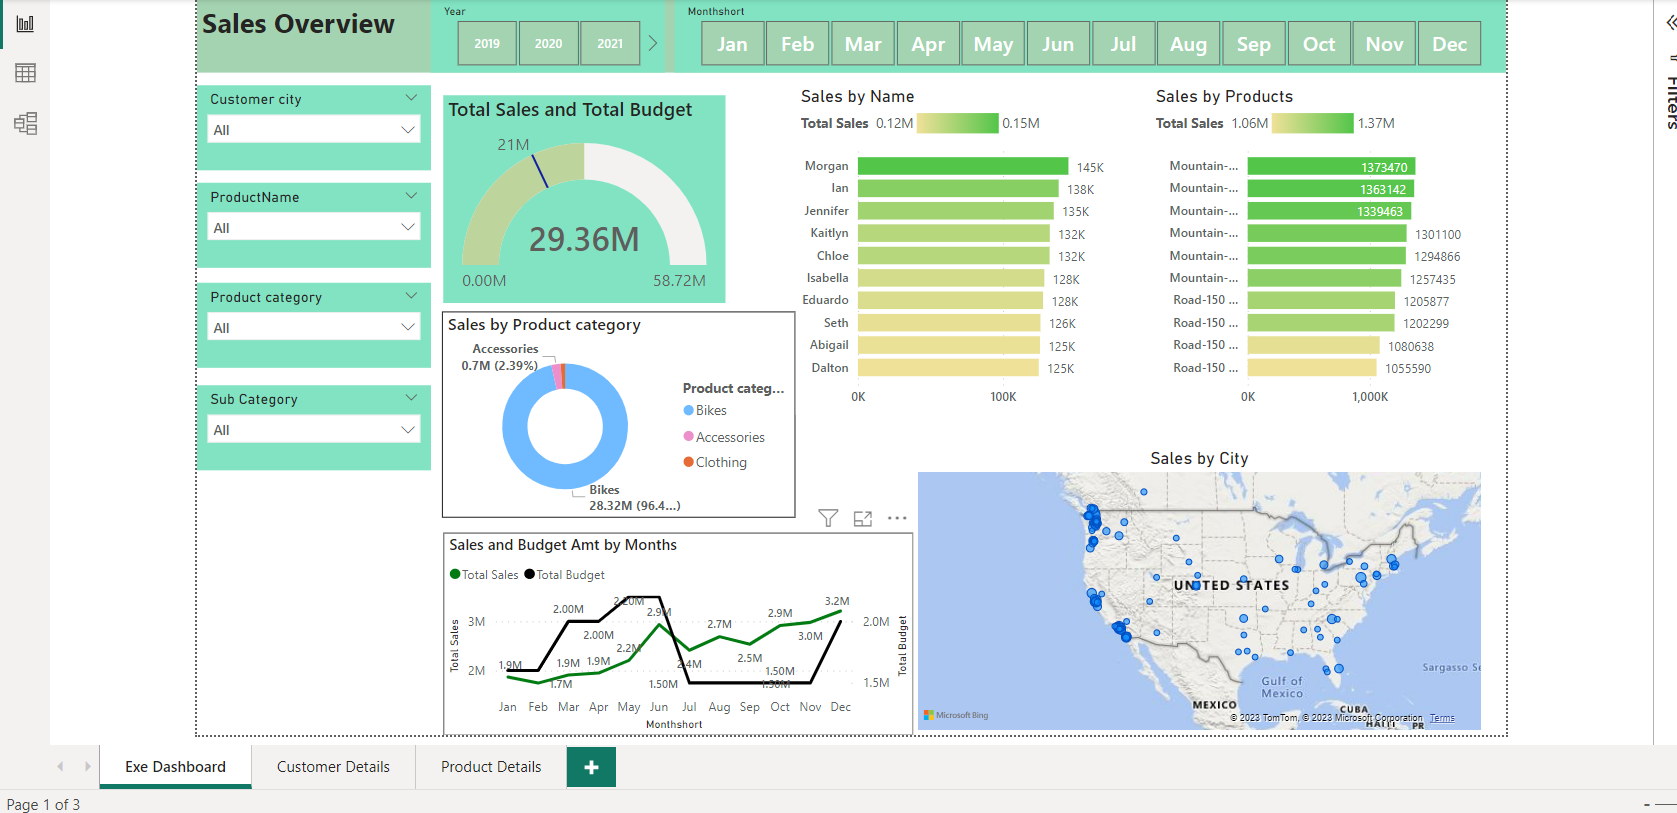

Layout of this report page (visuals, bound fields, positions):
{"tool":"powerbi","page":{"name":"Exe Dashboard","canvas":[1280,720],"ordinal":0},"visuals":[{"type":"textbox","box":[0,0,1279.9,72.1],"z":0},{"type":"slicer","fields":{"Values":["Customer.Customer city"]},"box":[0,84.3,228.6,83.1],"z":1},{"type":"slicer","fields":{"Values":["Product.ProductName"]},"box":[0,179.7,228.6,83.1],"z":2},{"type":"slicer","fields":{"Values":["Product.Product category"]},"box":[0,277.5,228.6,83.1],"z":3},{"type":"slicer","fields":{"Values":["Product.Sub Category"]},"box":[0,377.7,228.6,83.1],"z":4},{"type":"slicer","fields":{"Values":["Calendar.Year"]},"box":[228.6,0,228.6,72.1],"z":5},{"type":"slicer","fields":{"Values":["Calendar.Monthshort"]},"box":[467,0,812.9,72.1],"z":6},{"type":"gauge","fields":{"Y":["Table Measures.Total Sales"],"TargetValue":["Table Measures.Total Budget"]},"box":[240.8,94.1,276.3,202.9],"z":8},{"type":"donutChart","title":"Sales by Product category","fields":{"Category":["Product.Product category"],"Y":["Table Measures.Total Sales"]},"box":[240.1,305.5,345.3,201.8],"z":9},{"type":"lineChart","title":"Sales and Budget Amt by Months","fields":{"Y":["Table Measures.Total Sales"],"Y2":["Table Measures.Total Budget"],"Category":["Calendar.Monthshort"]},"box":[240.8,522,459.6,198],"z":10},{"type":"clusteredBarChart","title":"Sales by Name","fields":{"Category":["Customer.FirstName"],"Y":["Table Measures.Total Sales"]},"box":[585.5,84.3,327.6,322.7],"z":11},{"type":"clusteredBarChart","title":"Sales by Products","fields":{"Y":["Table Measures.Total Sales"],"Category":["Product.ProductName"]},"box":[932.7,84.3,327.6,322.7],"z":12},{"type":"map","title":"Sales by City","fields":{"Category":["Customer.Customer city"],"Size":["Table Measures.Total Sales"]},"box":[700.4,438.8,559.9,281.2],"z":13}]}

Visuals, with their boxes on the page's 1280x720 design canvas (x1, y1, x2, y2). These are canvas units, not pixel positions in the 1677x813 screenshot, which may show the page scaled, cropped or inside an application window:
textbox: BBox(0, 0, 1280, 72)
slicer - Customer.Customer city: BBox(0, 84, 229, 167)
slicer - Product.ProductName: BBox(0, 180, 229, 263)
slicer - Product.Product category: BBox(0, 278, 229, 361)
slicer - Product.Sub Category: BBox(0, 378, 229, 461)
slicer - Calendar.Year: BBox(229, 0, 457, 72)
slicer - Calendar.Monthshort: BBox(467, 0, 1280, 72)
gauge - Table Measures.Total Sales x Table Measures.Total Budget: BBox(241, 94, 517, 297)
"Sales by Product category" donutChart: BBox(240, 306, 585, 507)
"Sales and Budget Amt by Months" lineChart: BBox(241, 522, 700, 720)
"Sales by Name" clusteredBarChart: BBox(586, 84, 913, 407)
"Sales by Products" clusteredBarChart: BBox(933, 84, 1260, 407)
"Sales by City" map: BBox(700, 439, 1260, 720)
